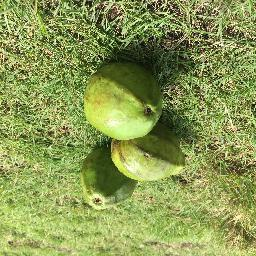Good_guava: (112, 120, 193, 193), (87, 62, 158, 142), (83, 150, 137, 217)
